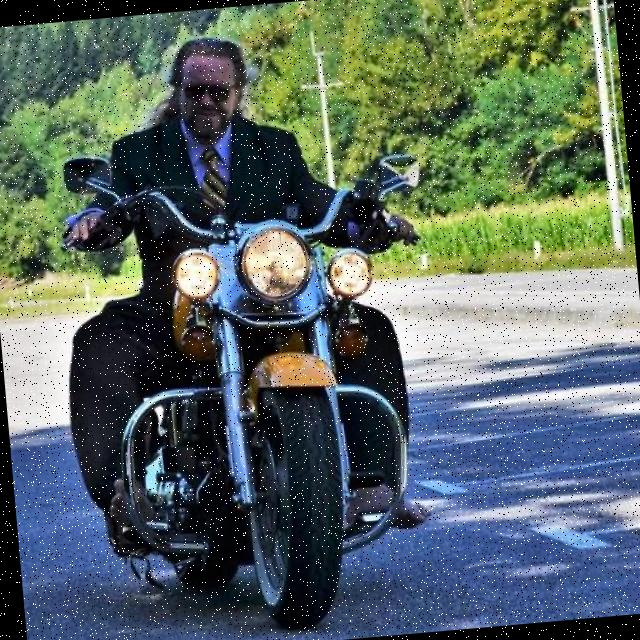No helmet: (164, 30, 266, 148)
